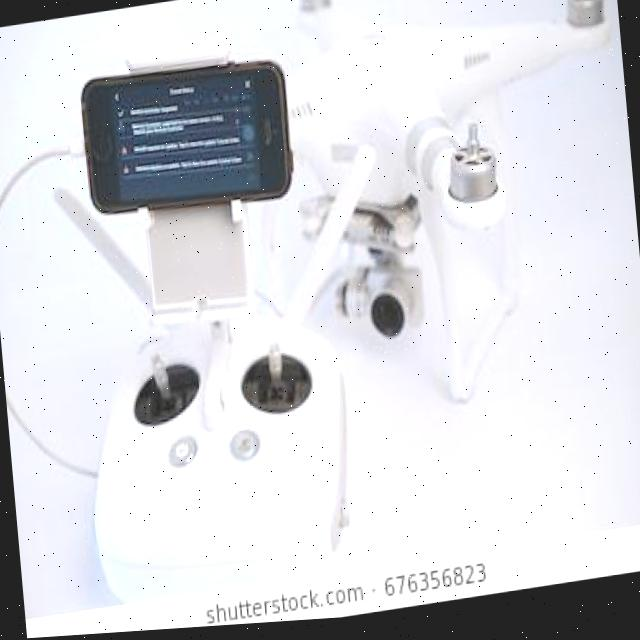drone: (220, 0, 640, 448)
